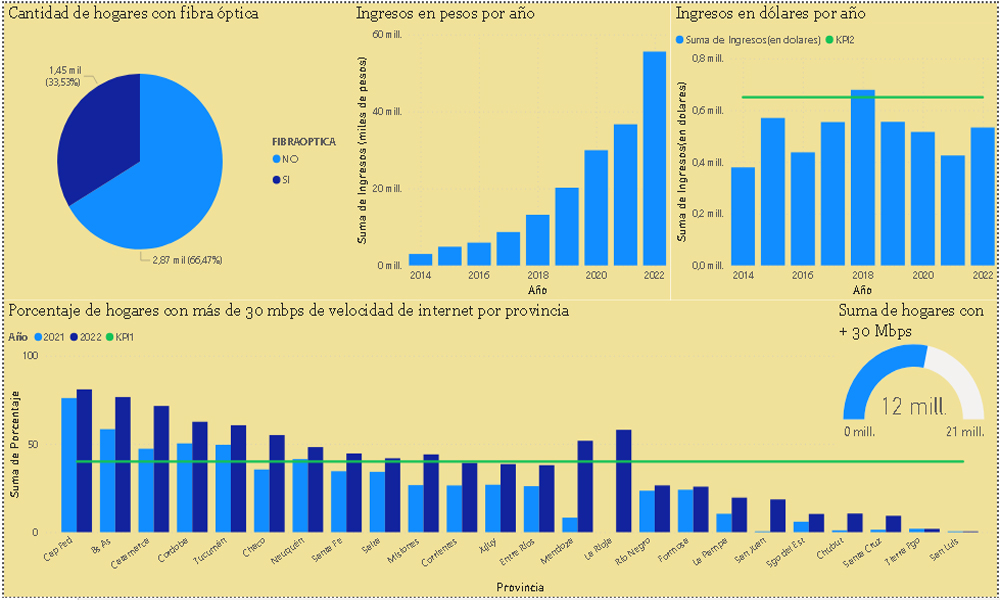

Layout of this report page (visuals, bound fields, positions):
{"tool":"powerbi","page":{"name":"Página 1","canvas":[1280,720],"ordinal":0},"visuals":[{"type":"lineClusteredColumnComboChart","title":"Porcentaje de hogares con más de 30 mbps de velocidad de internet por provincia","fields":{"Category":["Datos limpios 1.Provincia"],"Series":["Datos limpios 1.Año"],"Y":["Sum(Datos limpios 1.Porcentaje)"],"Y2":["Datos limpios 1.Medida 2"]},"box":[0,360,1280.2,360],"z":0},{"type":"pieChart","title":"Cantidad de hogares con fibra óptica","fields":{"Category":["Datos limpios 2.FIBRAOPTICA"],"Y":["CountNonNull(Datos limpios 2.FIBRAOPTICA)"]},"box":[0,0,447.8,360],"z":1000},{"type":"clusteredColumnChart","title":"Ingresos en pesos por año","fields":{"Y":["Sum(Datos limpios 3.Ingresos (miles de pesos))"],"Category":["Datos limpios 3.Año"]},"box":[447.7,0,411.1,360],"z":2000},{"type":"lineClusteredColumnComboChart","title":"Ingresos en dólares por año","fields":{"Category":["Datos limpios 3.Año"],"Y":["Sum(Datos limpios 3.Ingresos(en dolares))"],"Y2":["Datos limpios 3.kpi"]},"box":[858.8,0,421.5,360],"z":4000},{"type":"gauge","title":"Suma de hogares con + 30 Mbps","fields":{"MaxValue":["Sum(Datos limpios 1.Total)"],"Y":["Sum(Datos limpios 1.+ 30 Mbps)"]},"box":[1069.9,360,204.5,180],"z":4001}]}

Visuals, with their boxes on the page's 1280x720 design canvas (x1, y1, x2, y2). These are canvas units, not pixel positions in the 1000x600 screenshot, which may show the page scaled, cropped or inside an application window:
"Porcentaje de hogares con más de 30 mbps de velocidad de internet por provincia" lineClusteredColumnComboChart: [left=0, top=360, right=1280, bottom=720]
"Cantidad de hogares con fibra óptica" pieChart: [left=0, top=0, right=448, bottom=360]
"Ingresos en pesos por año" clusteredColumnChart: [left=448, top=0, right=859, bottom=360]
"Ingresos en dólares por año" lineClusteredColumnComboChart: [left=859, top=0, right=1280, bottom=360]
"Suma de hogares con + 30 Mbps" gauge: [left=1070, top=360, right=1274, bottom=540]
